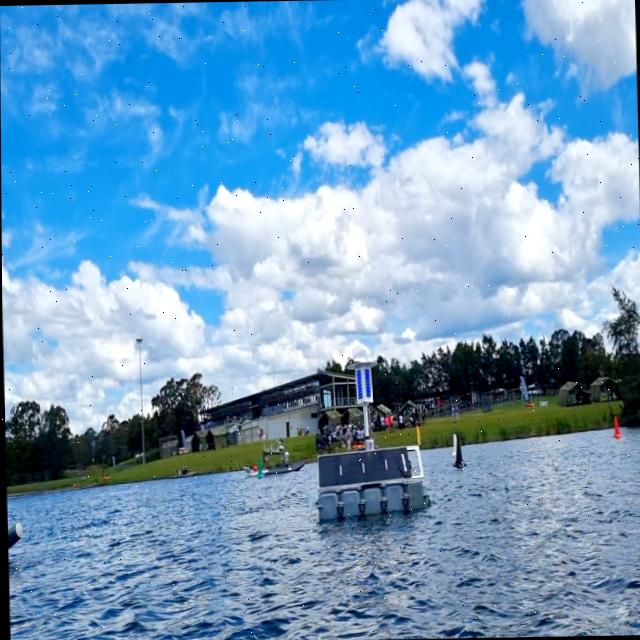led: (362, 367, 371, 399), (355, 369, 362, 401)
